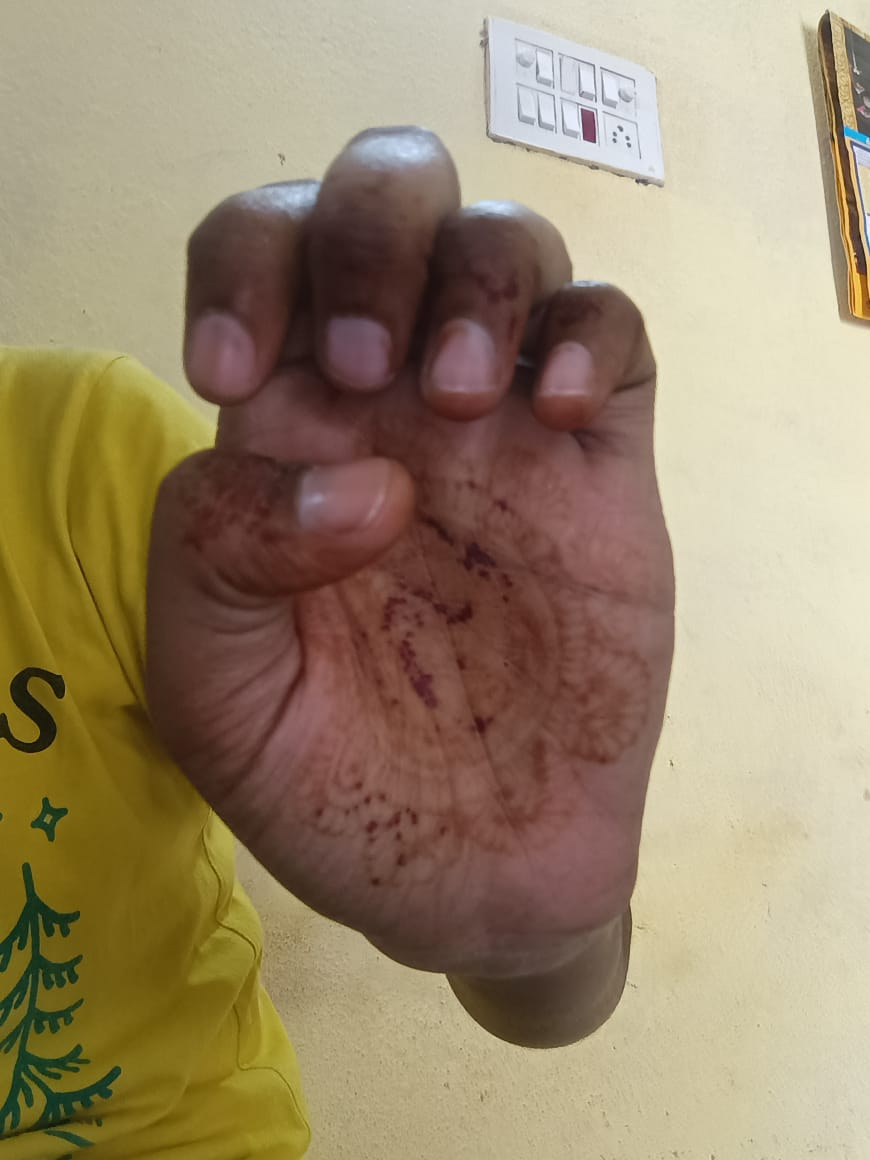E: (144, 125, 676, 932)
